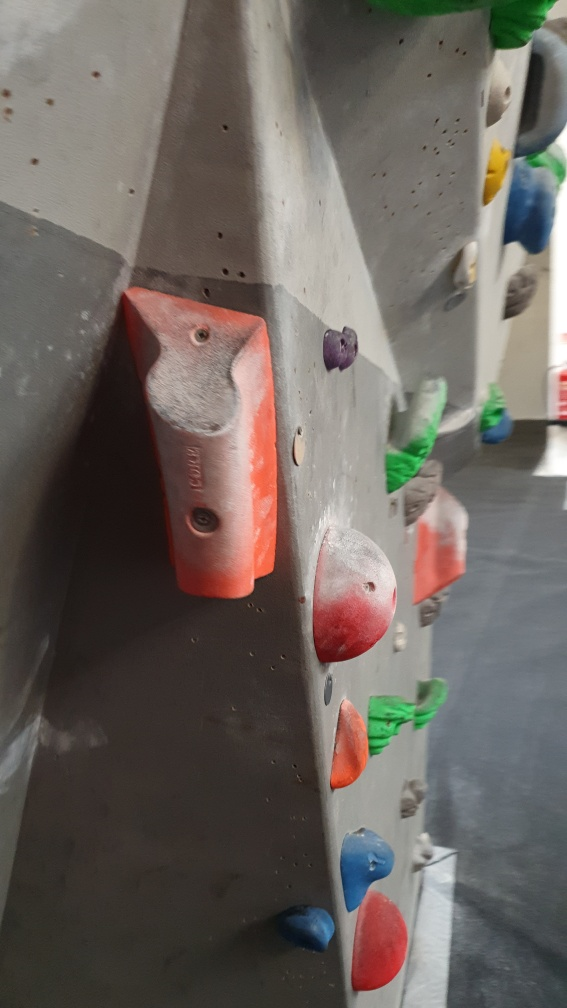Pinch: (114, 281, 280, 606)
Sloper: (308, 522, 400, 673), (345, 882, 414, 996)
